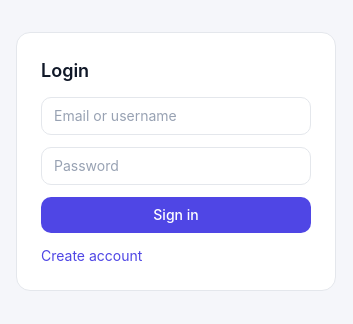
Test: Login form › shows the server error and stays on the form
Step 1. Type "alice" into the field with placeholder "Email or username" → (176, 116), box [41,96,311,134]
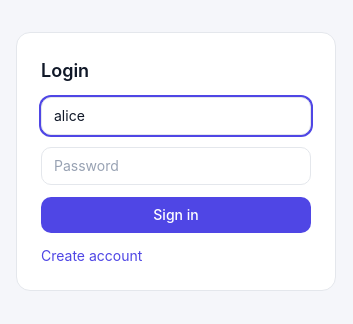
Step 2. Type "wrong-password" into the password field with placeholder "Password" → (176, 166), box [41,146,311,184]
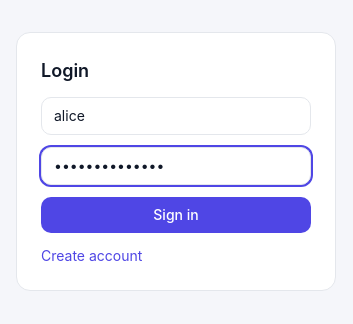
Step 3. Click the button "Sign in" → (176, 214), box [41,196,311,232]
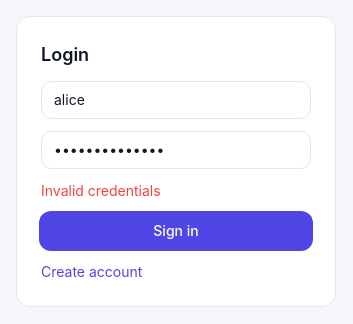
Expected: the text "Invalid credentials" is shown, [41,182,161,198]
